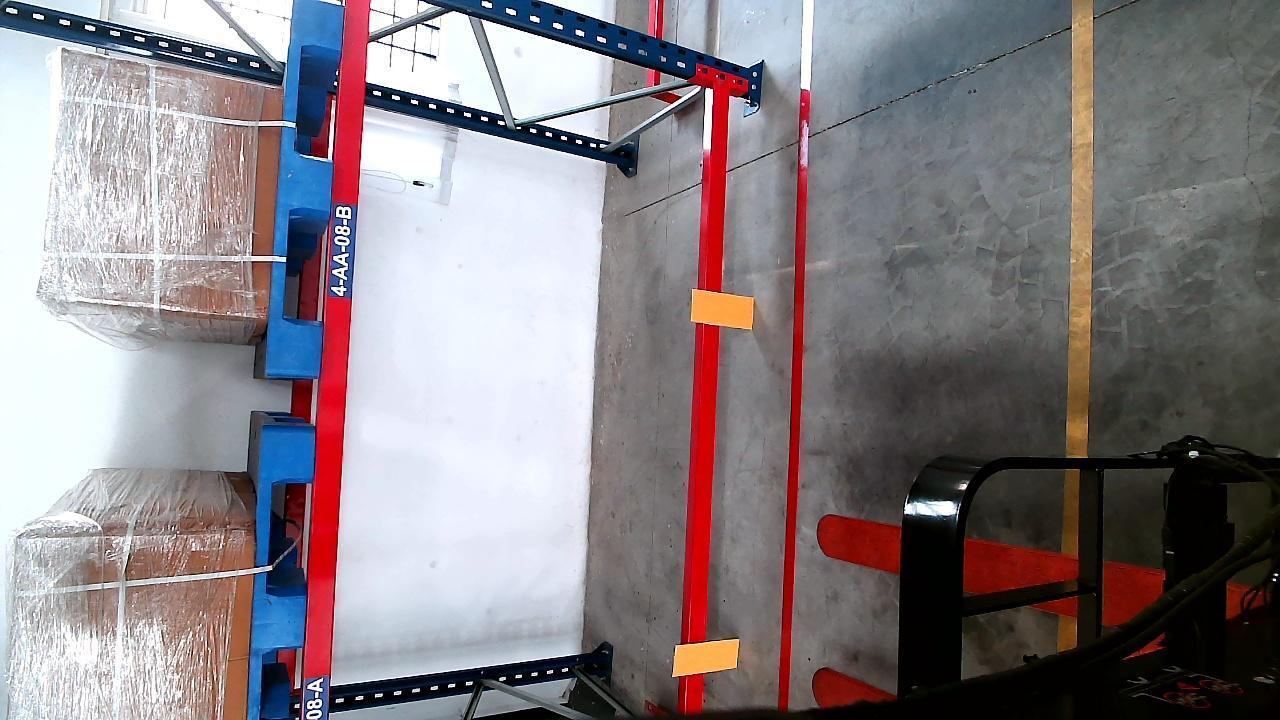red_line: (774, 90, 812, 710)
yellow_line: (1069, 0, 1096, 455)
